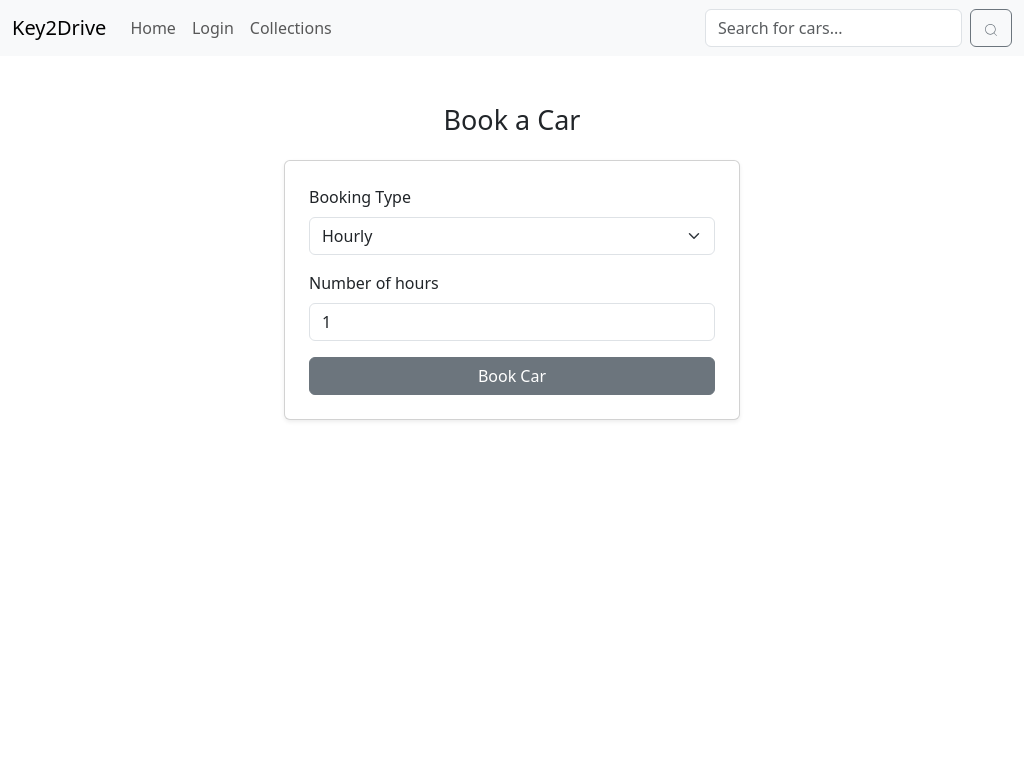
Test case: BookPage Component › displays start and end date inputs for 'day' or 'week' duration types
Select "Daily" in the dropdown labelled "Booking Type" at (512, 236), box [309,217,715,255]
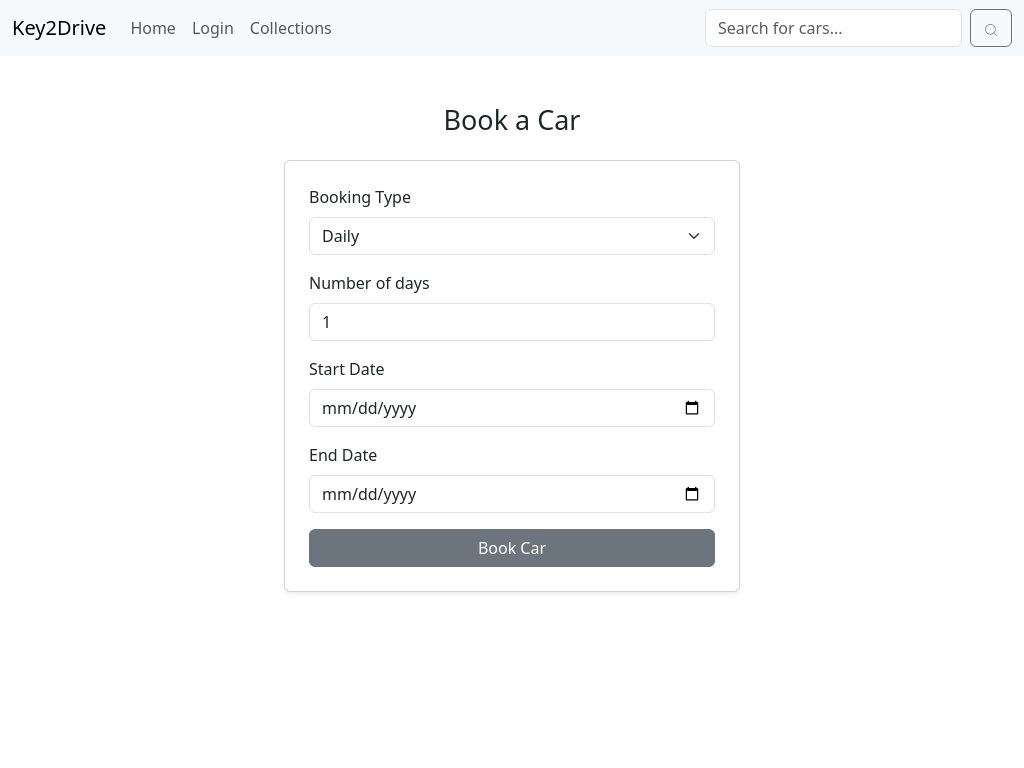
Check: the date field labelled "Start Date" is shown, box [309,389,715,427]
Check: the date field labelled "End Date" is shown, box [309,475,715,513]
